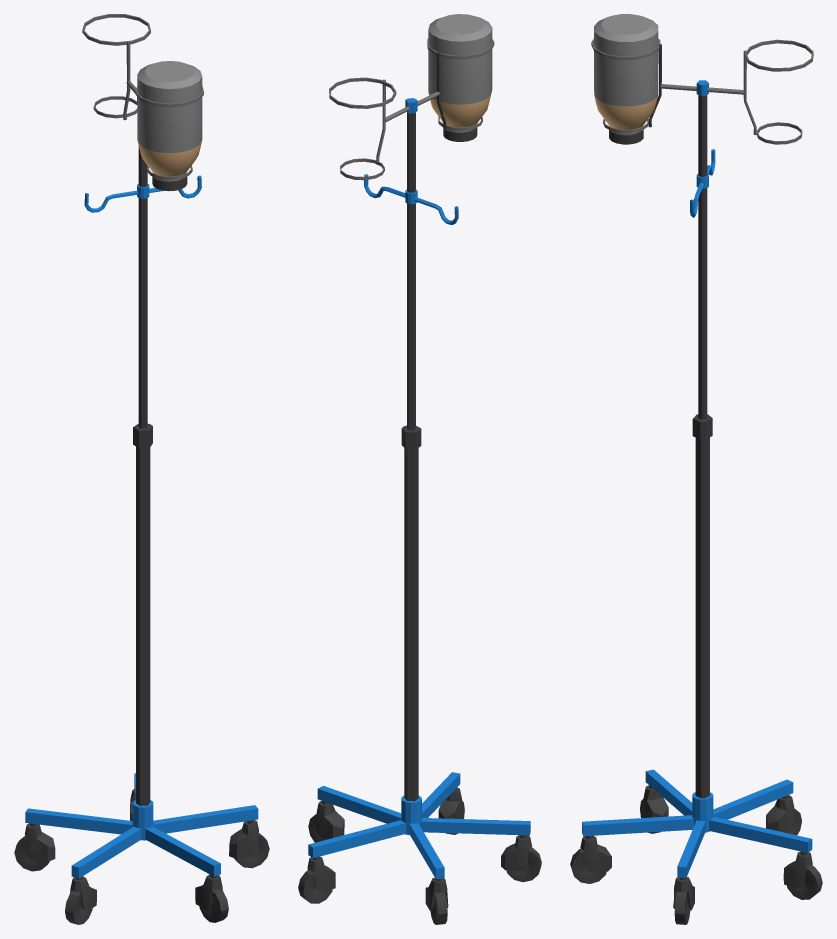
File: Drop Counter.fbx
The picture shows the model from 3 angles, left to right: view 1: azimuth 30°, elevation 25°; view 2: azimuth 150°, elevation 25°; view 3: azimuth 270°, elevation 25°; orthographic projection. The views are drawn at different scales.
Visible parts, largest first — view 1: drop_counter; view 2: drop_counter; view 3: drop_counter.
Boxes of the visible parts, box(x1,y1,x2,y2) form: drop_counter: box(14, 14, 269, 924); drop_counter: box(298, 14, 541, 924); drop_counter: box(570, 14, 822, 924).
Size of the model in its own units: 91.43 by 336 by 90.93.
